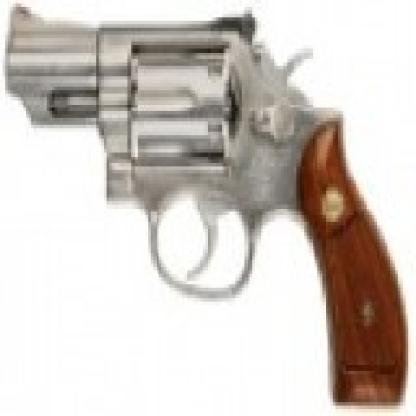handgun: (2, 0, 400, 399)
